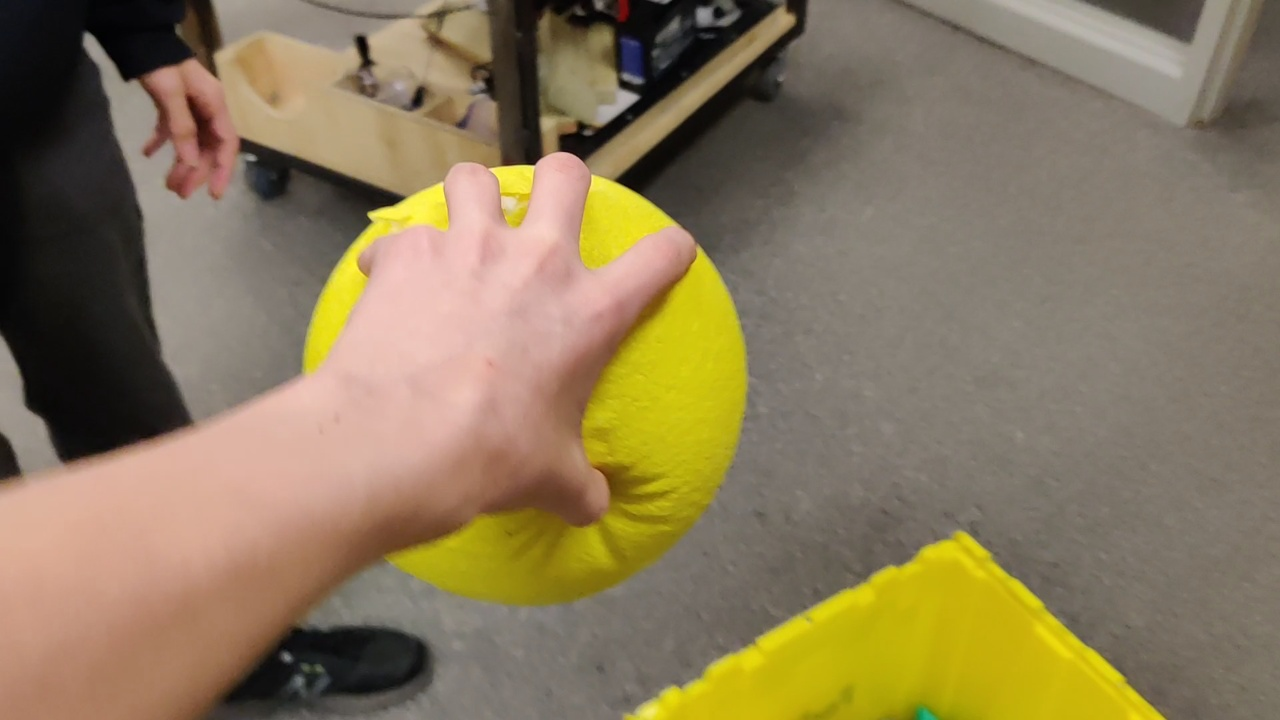Ball: (396, 245, 743, 589)
